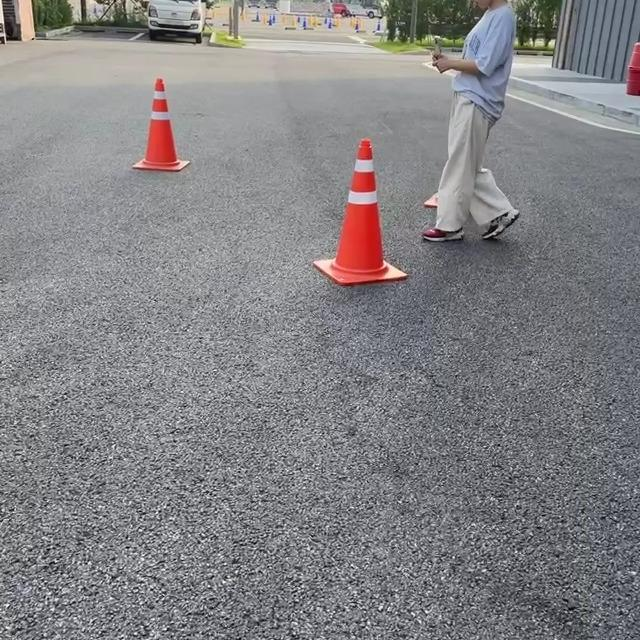fallen_object: (280, 134, 482, 313), (89, 43, 227, 169)
